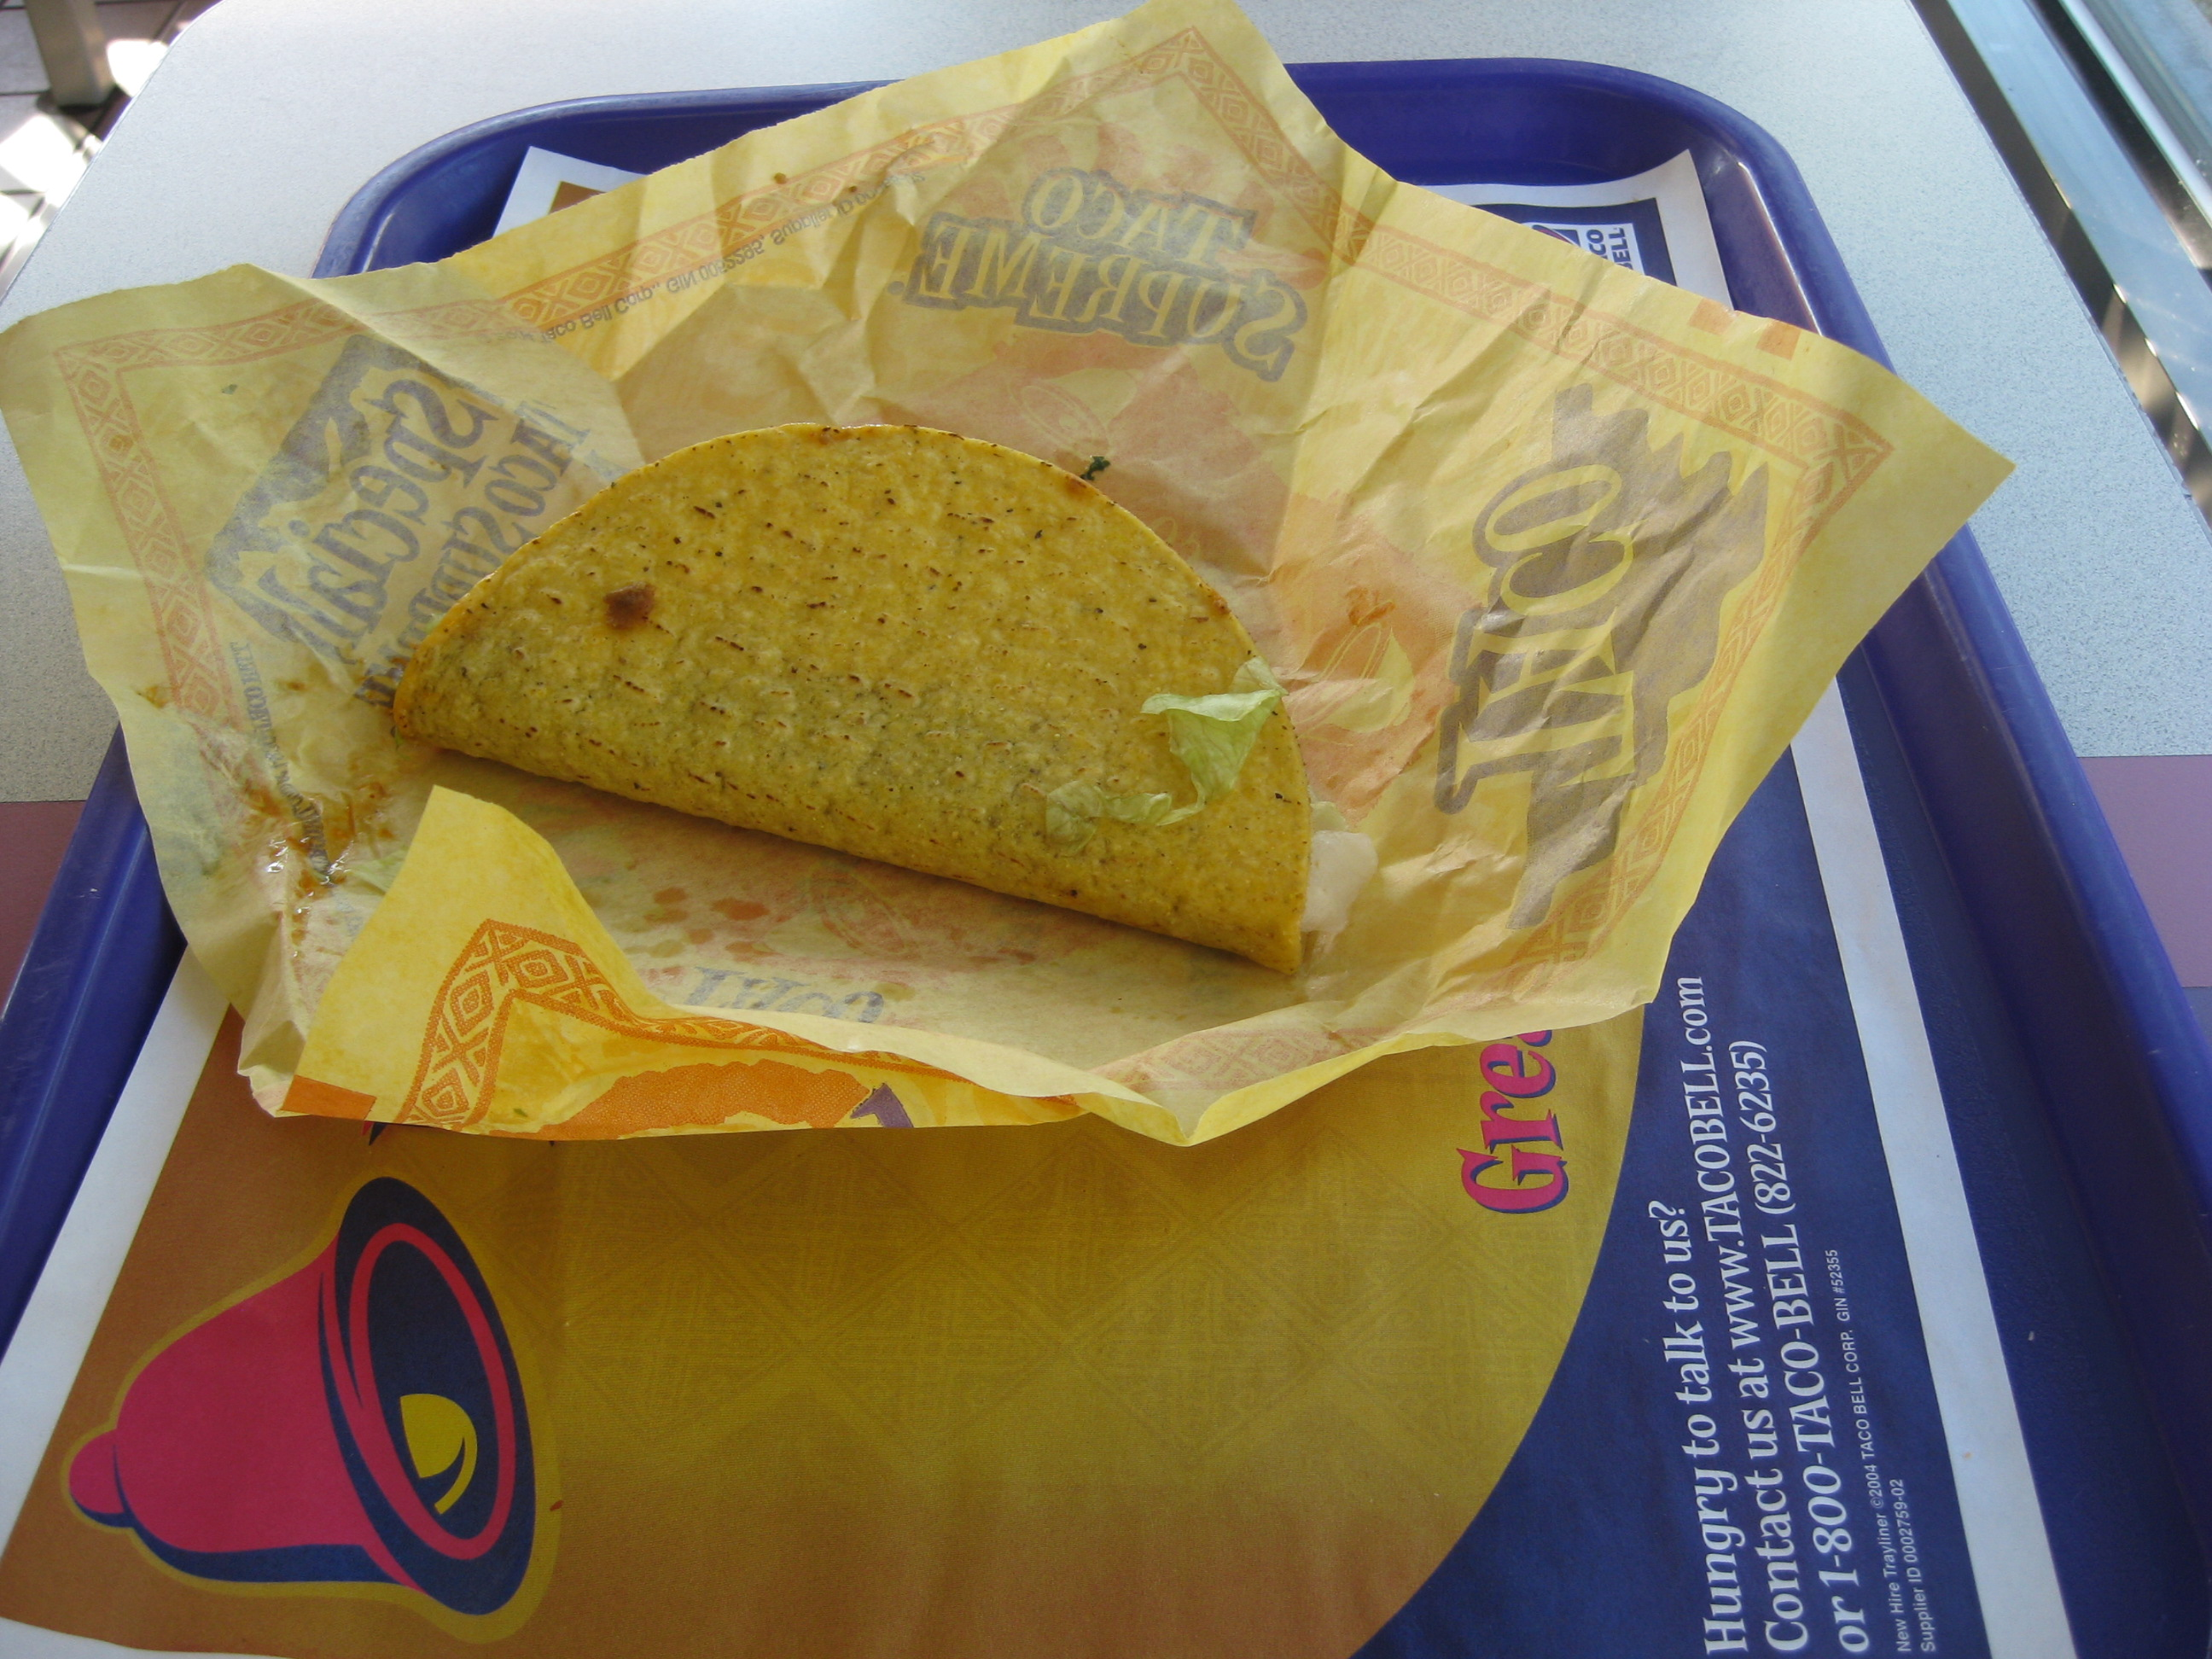taco: (386, 400, 1326, 985)
